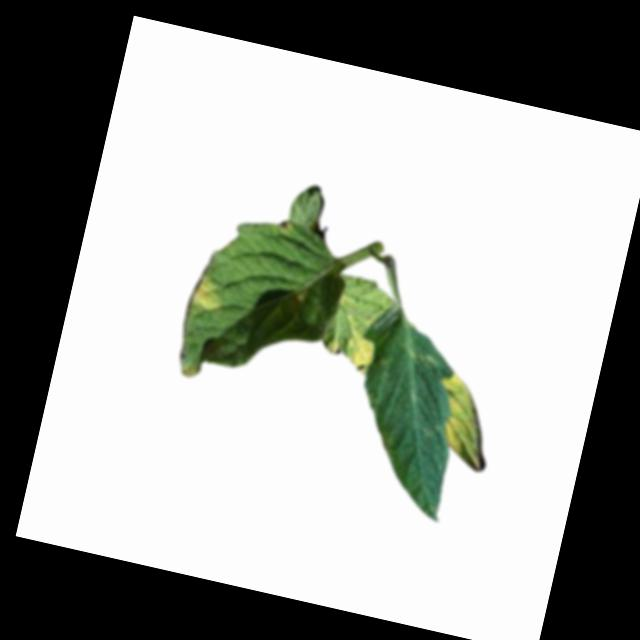Leaf_Mold: (428, 370, 503, 472), (321, 328, 376, 375), (185, 272, 226, 314)
